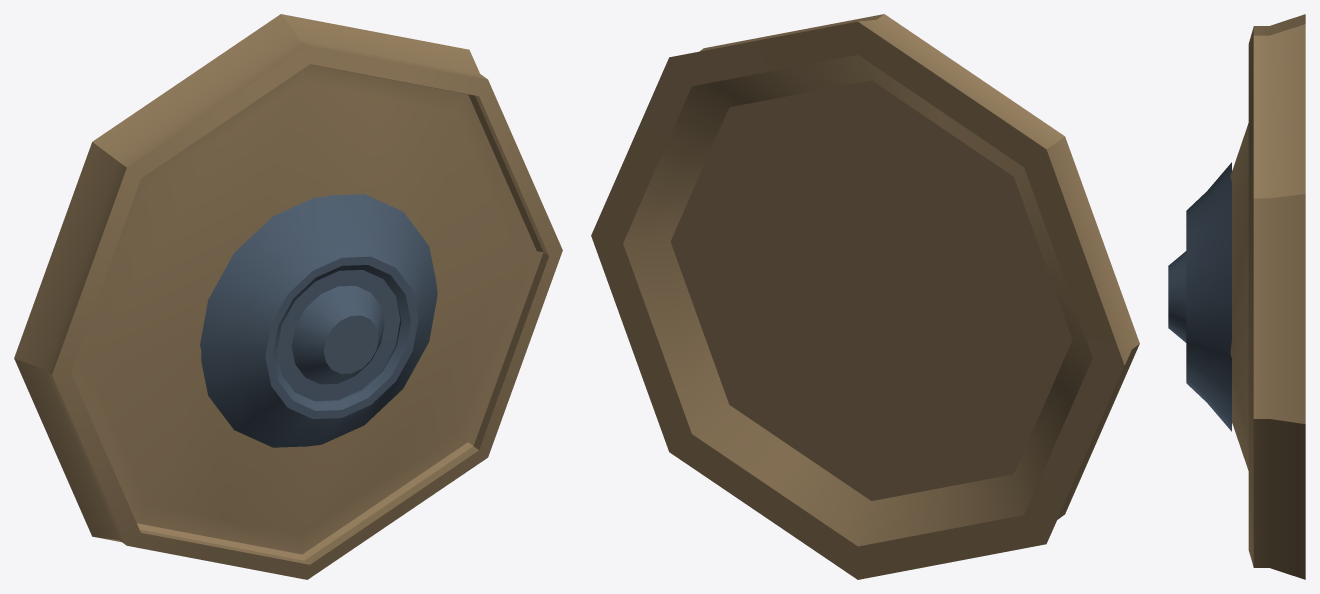
The model's file is woodenshield.fbx.
The picture shows the model from 3 angles, left to right: view 1: azimuth 30°, elevation 25°; view 2: azimuth 150°, elevation 25°; view 3: azimuth 270°, elevation 25°; orthographic projection. The views are drawn at different scales.
Visible parts, largest first — view 1: Circle.004; view 2: Circle.004; view 3: Circle.004.
Boxes of the visible parts, bbox=[...] form: Circle.004: bbox=[14, 14, 562, 579]; Circle.004: bbox=[591, 14, 1139, 579]; Circle.004: bbox=[1168, 14, 1305, 579].
Bounding box in the file's own units: 1.41 × 1.41 × 0.3234.
